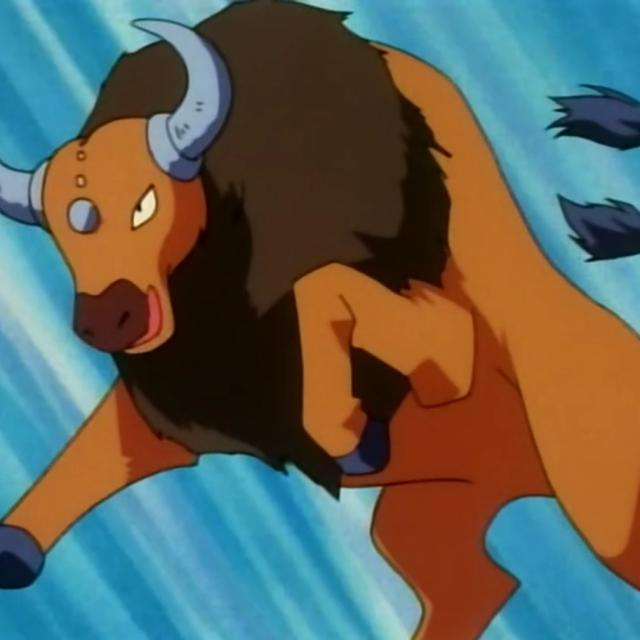Tauros: (0, 8, 564, 486)
